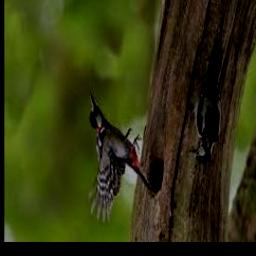Woodpecker: (89, 97, 150, 223), (187, 43, 222, 165)
